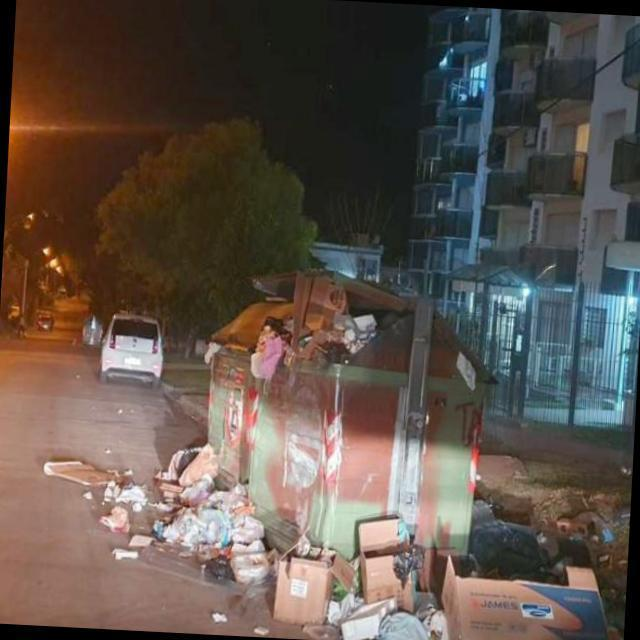garbage: (328, 505, 630, 640), (154, 440, 342, 640), (242, 269, 400, 399), (38, 451, 164, 567)
